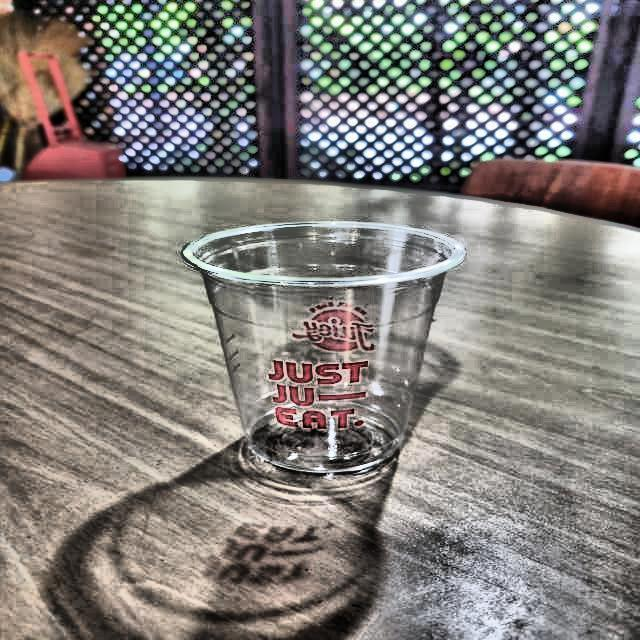plastic cup: (170, 212, 482, 482)
